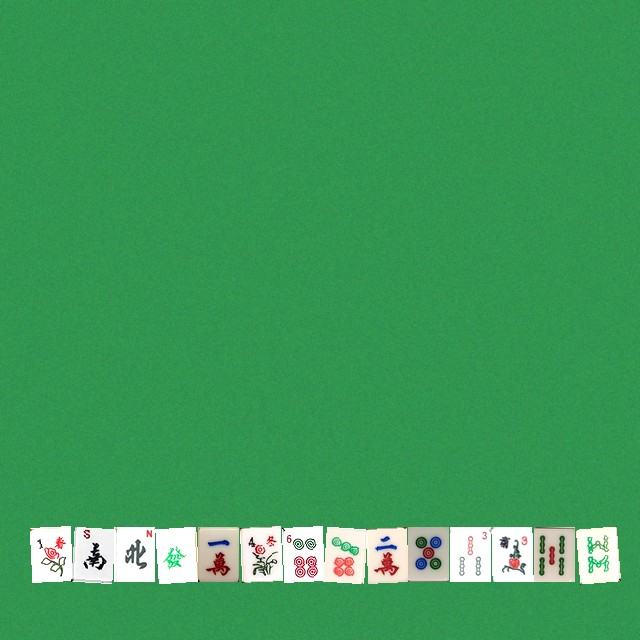tile: (29, 526, 70, 581), (71, 526, 112, 581), (113, 526, 154, 581), (155, 526, 196, 581), (197, 526, 238, 581), (239, 526, 280, 581), (281, 526, 322, 581), (323, 526, 364, 581), (365, 526, 406, 581), (407, 526, 448, 581), (449, 526, 490, 581), (491, 526, 532, 581), (533, 526, 574, 581), (575, 526, 616, 581)
